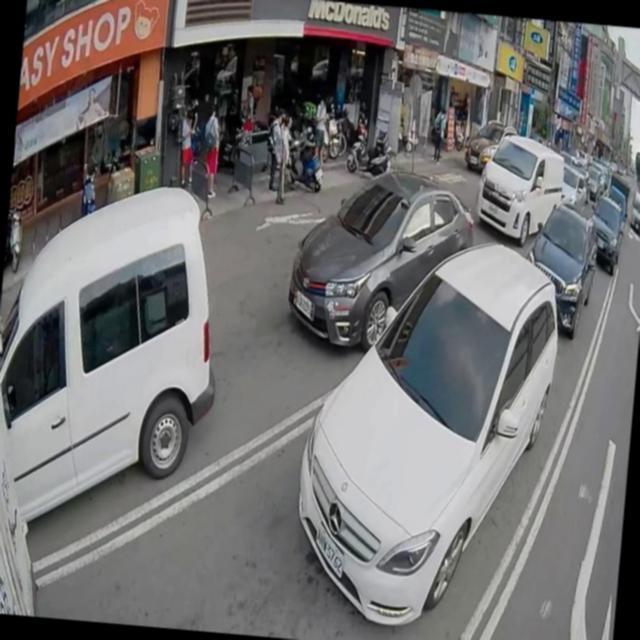person: (196, 98, 225, 198), (267, 113, 295, 203), (172, 103, 198, 187), (310, 93, 330, 164), (429, 106, 444, 163), (244, 80, 258, 132)
